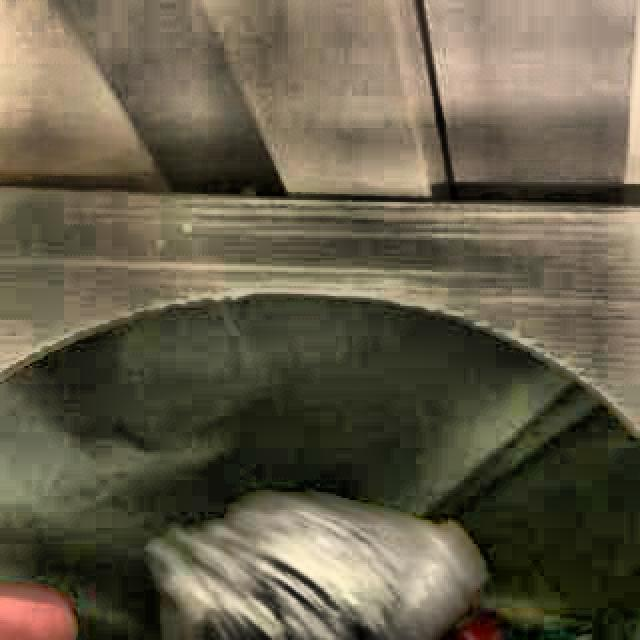metal: (151, 493, 483, 640)
